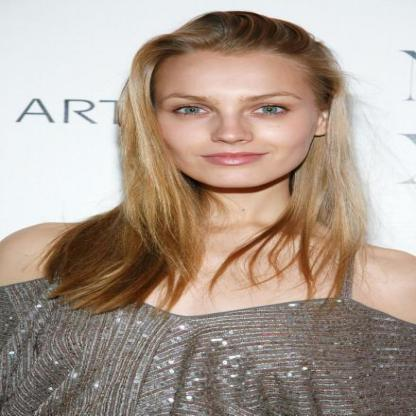long-hair: (79, 192, 386, 262)
